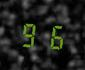nine: (19, 18, 41, 49)
six: (42, 20, 64, 51)
